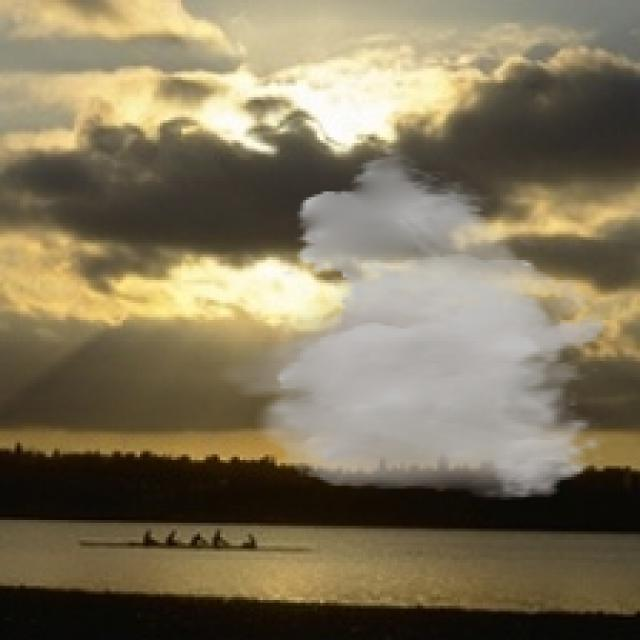smoke: (212, 146, 608, 500)
